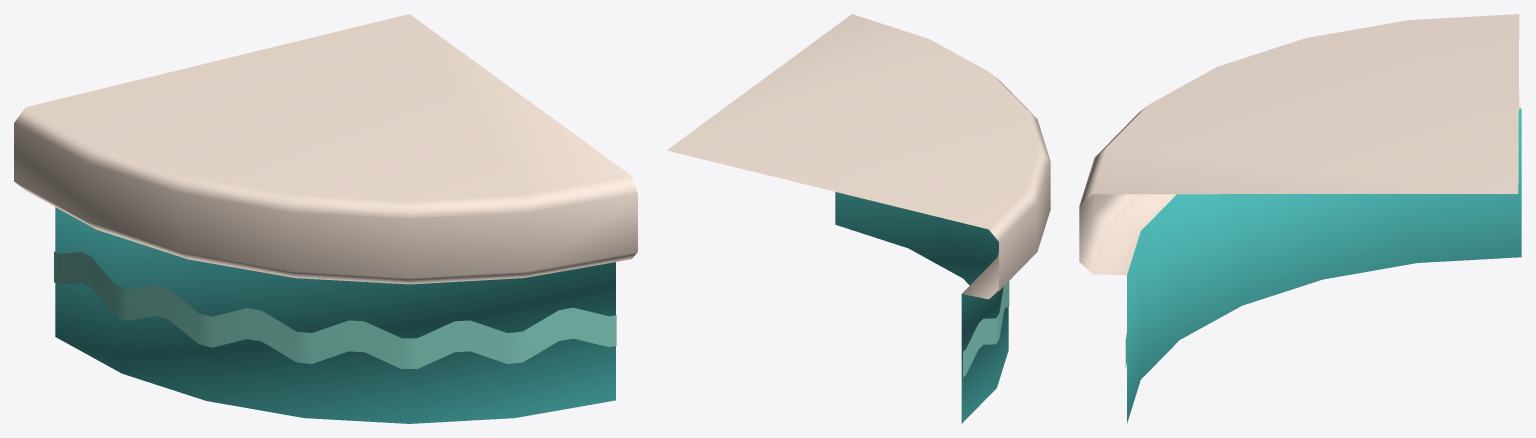
File: Decor_Banbar_B_02.fbx
The picture shows the model from 3 angles, left to right: view 1: azimuth 30°, elevation 25°; view 2: azimuth 150°, elevation 25°; view 3: azimuth 270°, elevation 25°; orthographic projection. The views are drawn at different scales.
Parts seen in each view (by area): view 1: Decor_Banbar_B_02; view 2: Decor_Banbar_B_02; view 3: Decor_Banbar_B_02.
Boxes of the visible parts, bbox=[...] form: Decor_Banbar_B_02: bbox=[14, 14, 637, 423]; Decor_Banbar_B_02: bbox=[667, 14, 1050, 423]; Decor_Banbar_B_02: bbox=[1079, 14, 1521, 423].
Size of the model in its own units: 131 by 74.84 by 131.
